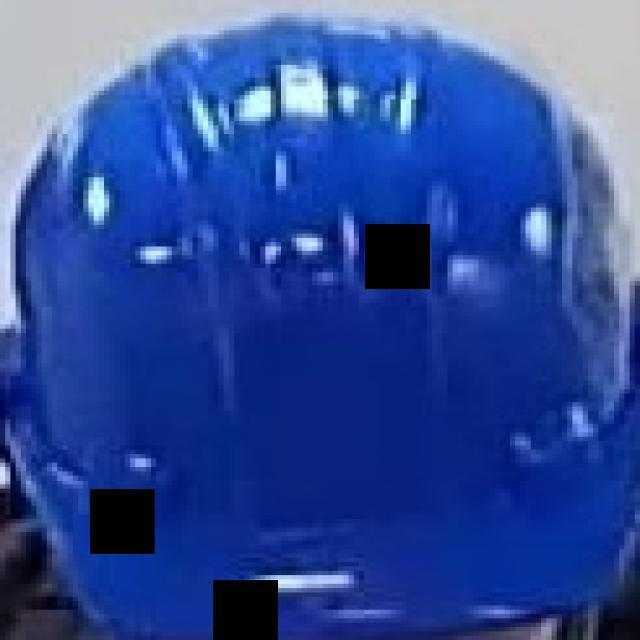blue helmet: (17, 26, 637, 620)
